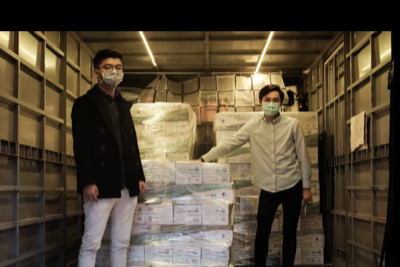with_mask: (96, 63, 123, 89), (261, 95, 282, 117)
